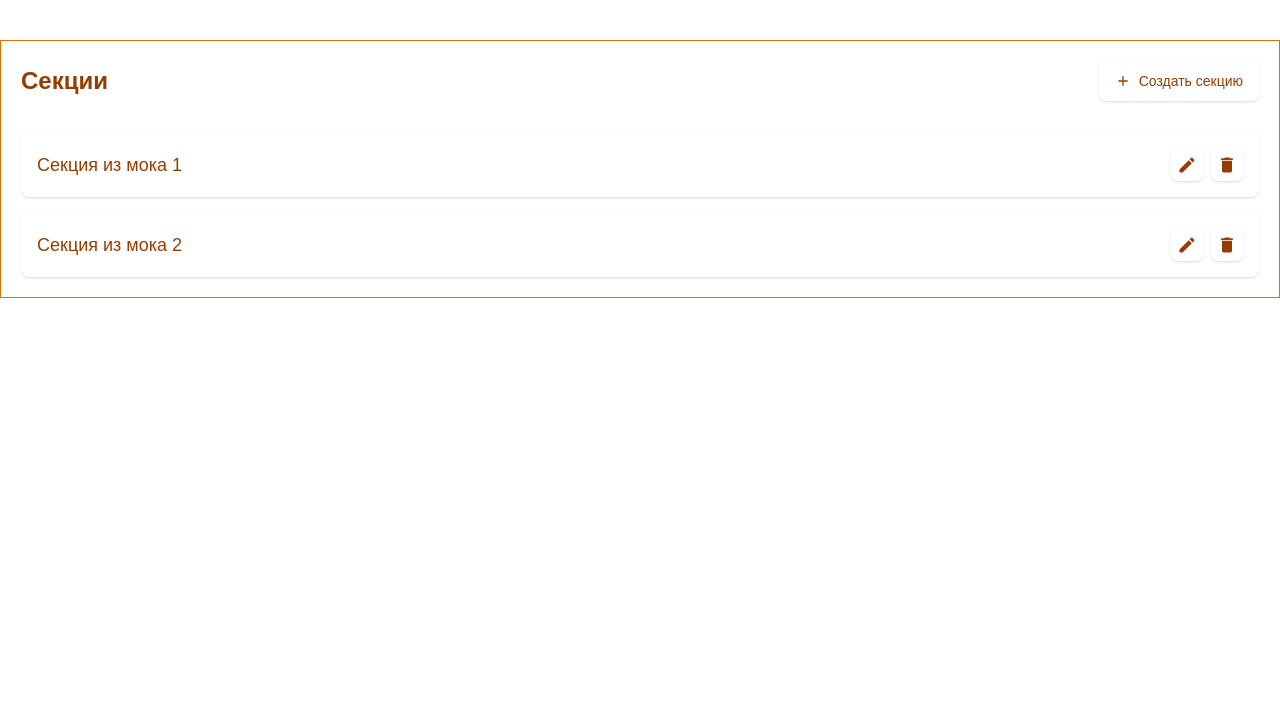
SectionsPage › CRUD операции › должен редактировать секцию
# ACT (Действие): Находим нужный элемент списка и нажимаем кнопку "Редактировать".
Click the button named "Редактировать" in the row of "Секция из мока 1" at (1187, 165), box top-left (1171, 149), bottom-right (1203, 181)
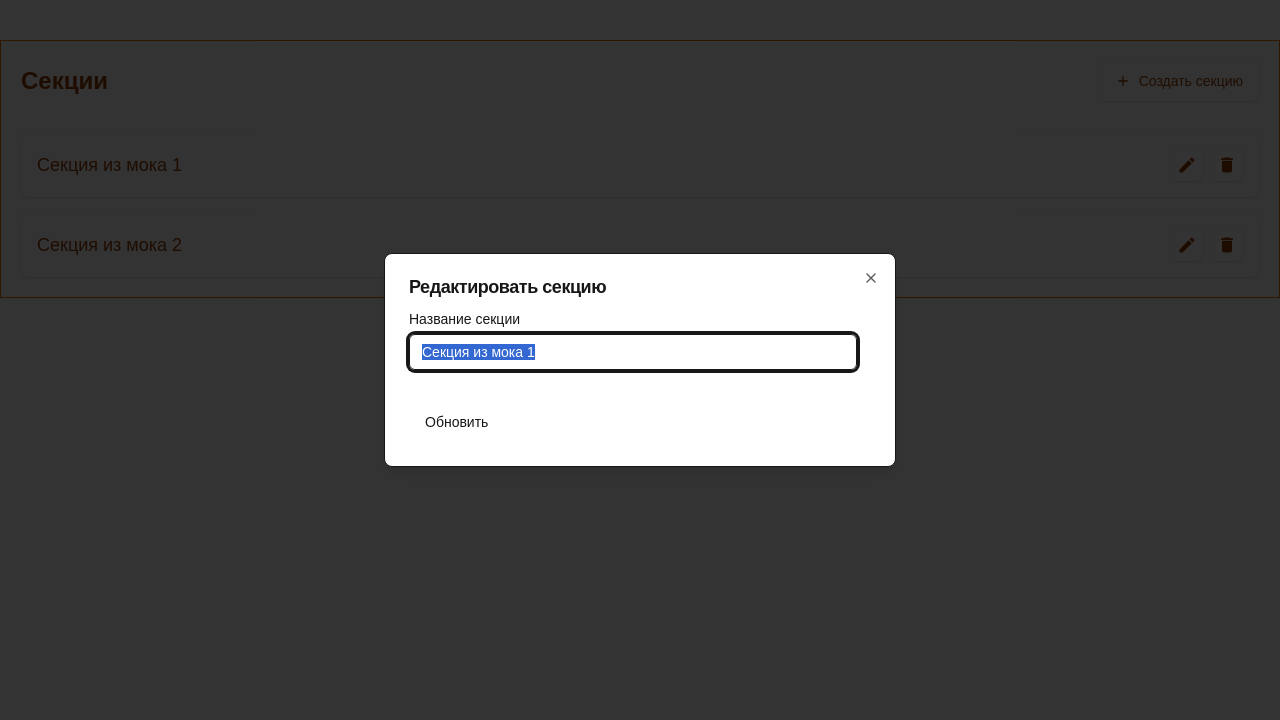
# ACT (Действие): Очищаем поле ввода и вводим новое название.
Replace the text in the field labelled "Название секции" with "Отредактированная секция" at (633, 352), box top-left (409, 334), bottom-right (857, 370)
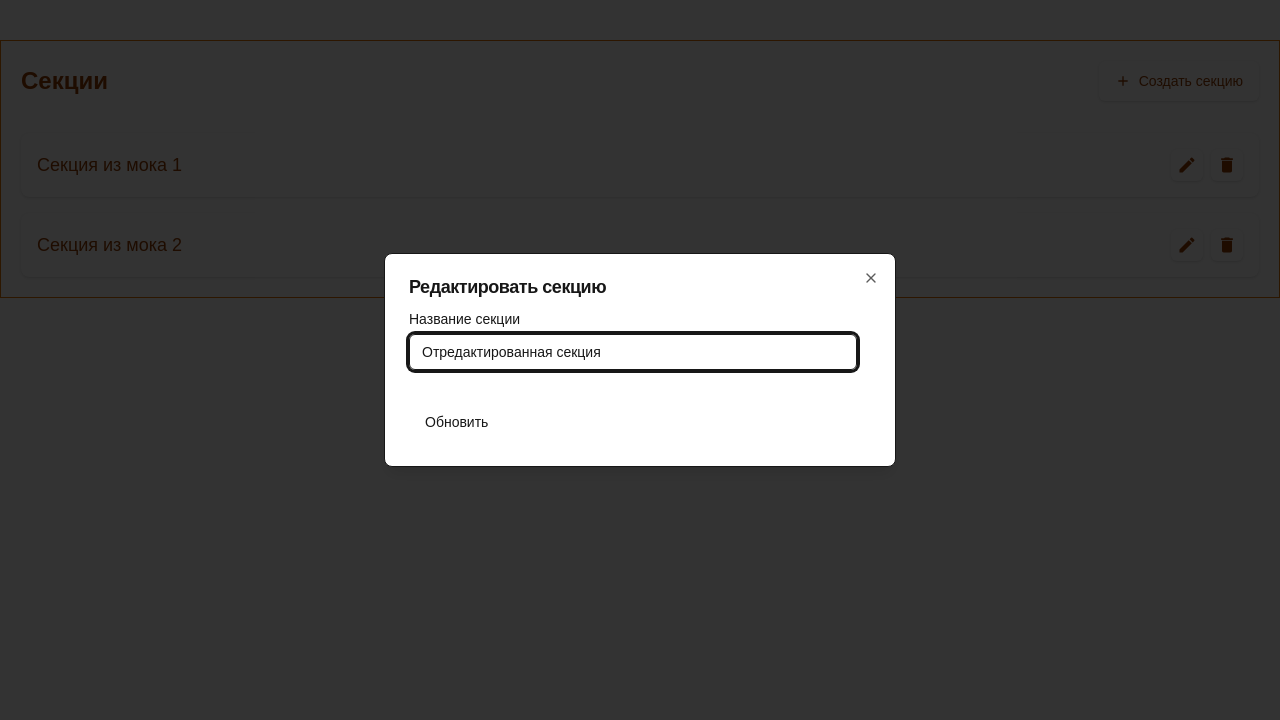
# ACT (Действие): Нажимаем кнопку "Обновить".
Click the button "Обновить" at (457, 422), box top-left (409, 402), bottom-right (504, 442)
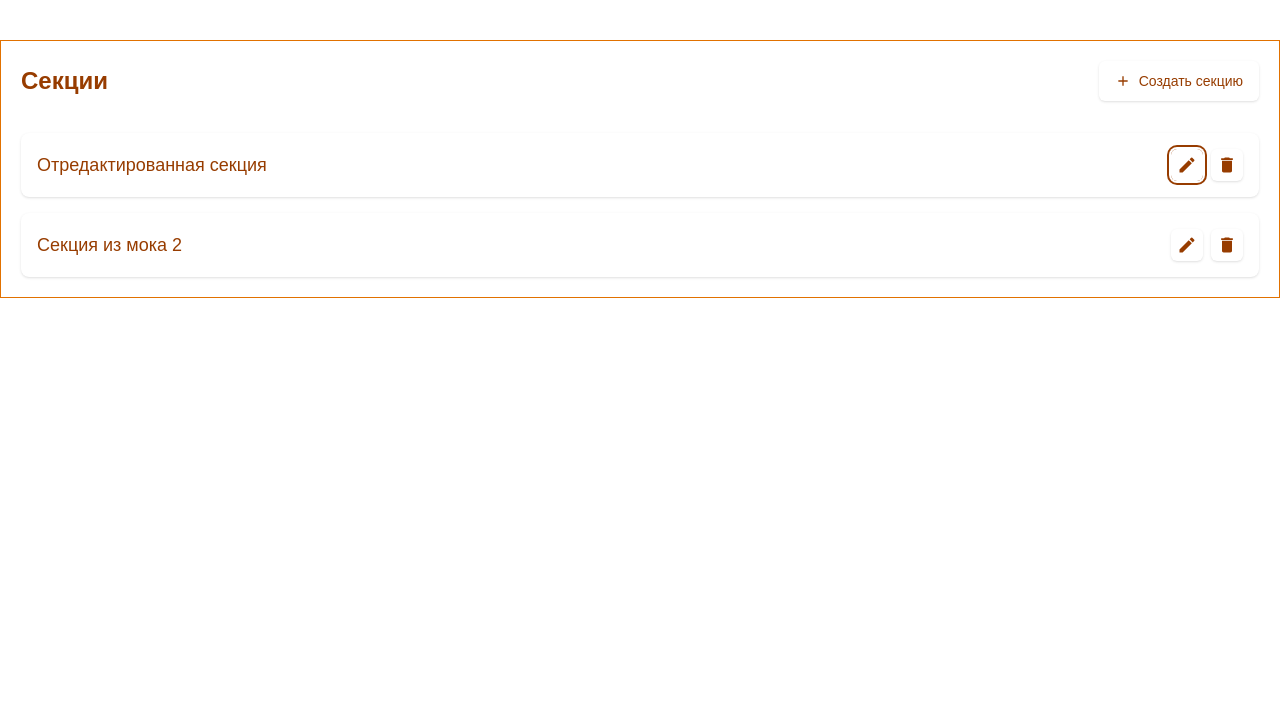
Expected: the text "Отредактированная секция" is shown, top-left (37, 151), bottom-right (267, 179)
